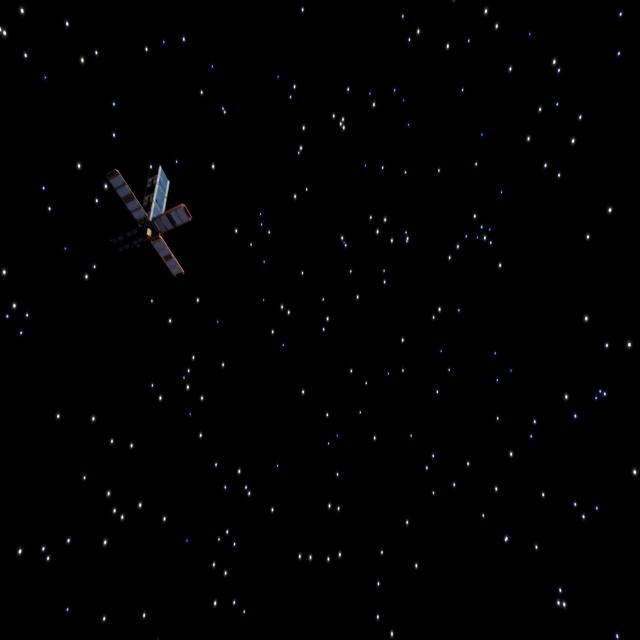medium_debris: (90, 152, 197, 279)
